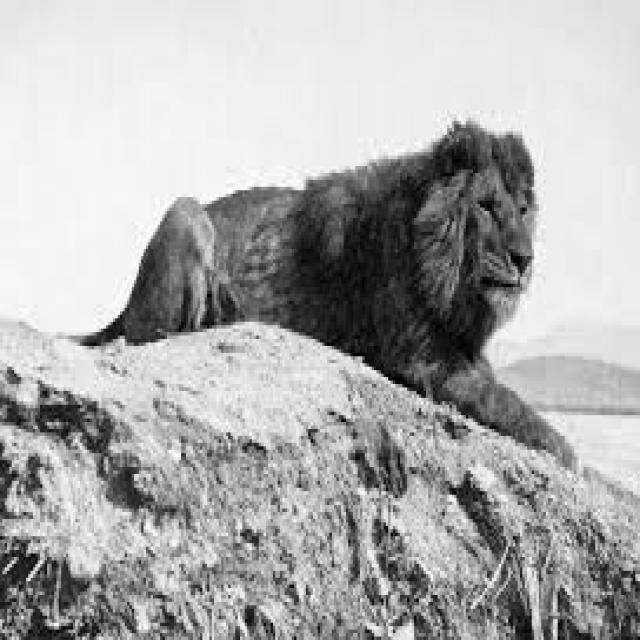Lion: (74, 114, 579, 469)
